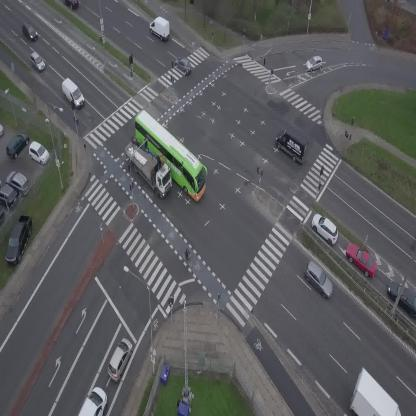bicycle: (180, 248, 196, 269)
bus: (120, 108, 219, 203)
car: (341, 238, 383, 282), (298, 259, 340, 301), (103, 336, 137, 384), (306, 209, 344, 247), (79, 385, 114, 416), (18, 20, 41, 43), (172, 55, 195, 77), (26, 50, 47, 74), (304, 55, 324, 73), (62, 0, 79, 10)
lorry: (116, 134, 182, 200), (336, 367, 405, 416), (270, 123, 316, 165), (57, 76, 88, 110), (145, 13, 176, 43)
